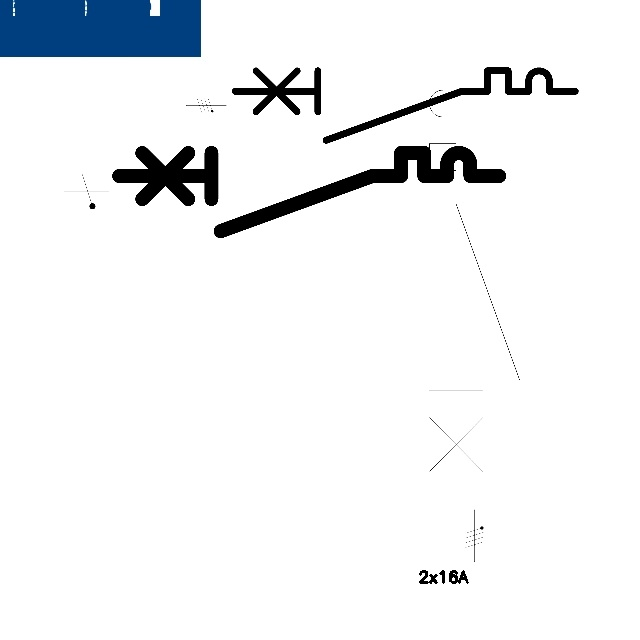interruptor_termomagnetico: (418, 45, 531, 509), (109, 143, 509, 241), (226, 62, 584, 149)
